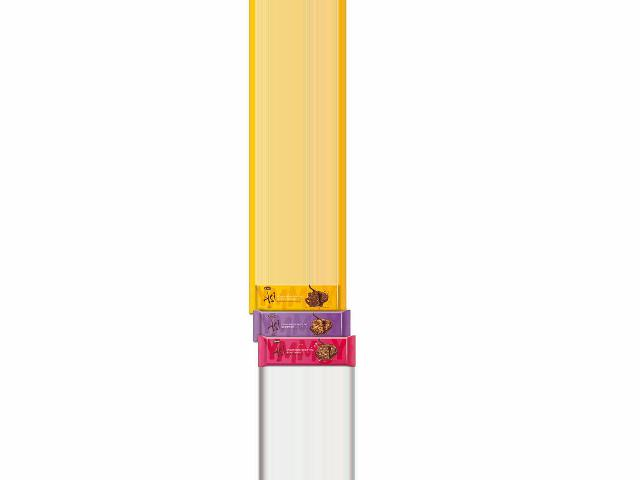chocolate: (253, 336, 361, 368)
